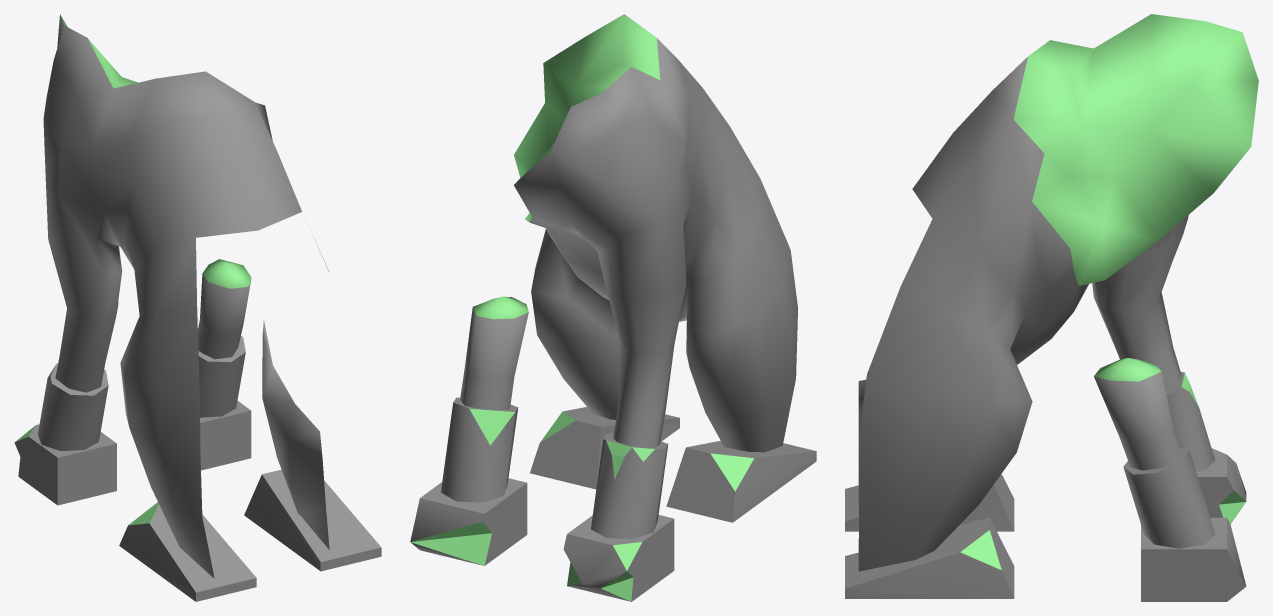
File: SSQ_statue02_b02.gltf
3 views of the same model, side by side, from view 1: azimuth 30°, elevation 25°; view 2: azimuth 150°, elevation 25°; view 3: azimuth 270°, elevation 25° (orthographic). The views are drawn at different scales.
Parts seen in each view (by area): view 1: SSQ_statue02_b02; view 2: SSQ_statue02_b02; view 3: SSQ_statue02_b02.
Boxes of the visible parts, x1,y1,x2,y2 form: SSQ_statue02_b02: (14,14,381,601); SSQ_statue02_b02: (410,14,816,601); SSQ_statue02_b02: (845,14,1258,601).
Size of the model in its own units: 0.4205 by 0.9078 by 0.6775.
